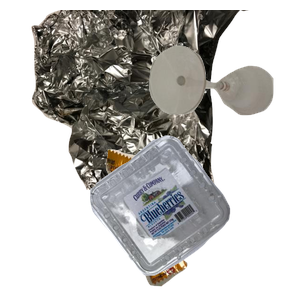glass: (147, 43, 300, 151)
metal: (29, 10, 269, 190)
plastic: (88, 133, 300, 300)
trash: (103, 147, 300, 300)
